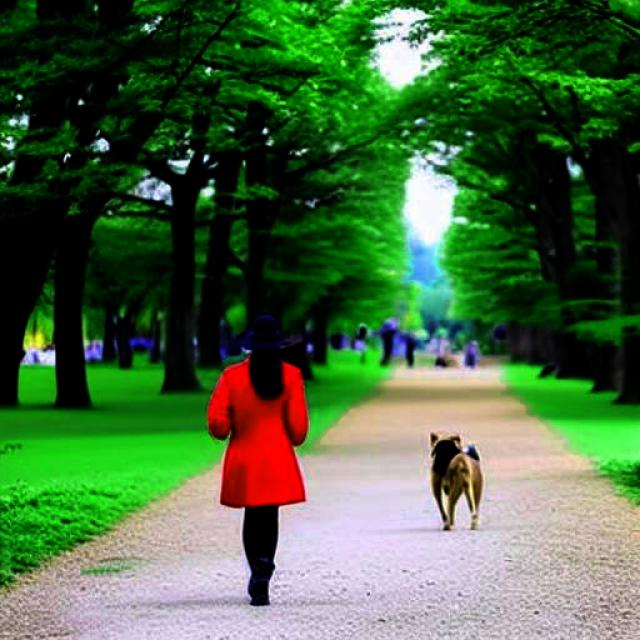Unleashed_Dog: (230, 431, 486, 534)
